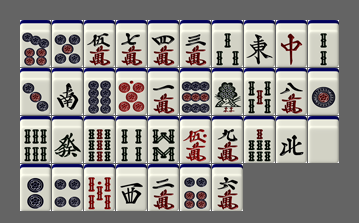0m: (180, 116, 211, 163)
0p: (116, 68, 147, 115)
0s: (84, 164, 115, 211)
1m: (148, 68, 179, 115)
1p: (308, 68, 339, 115)
1s: (212, 68, 243, 115)
1z: (244, 20, 275, 67)
2m: (148, 164, 179, 211)
2p: (20, 164, 51, 211)
2s: (308, 20, 339, 67)
2z: (52, 68, 83, 115)
3m: (180, 20, 211, 67)
3p: (20, 68, 51, 115)
3s: (212, 20, 243, 67)
3z: (116, 164, 147, 211)
4m: (148, 20, 179, 67)
4p: (52, 164, 83, 211)
4s: (116, 116, 147, 163)
4z: (276, 116, 307, 163)
5m: (84, 20, 115, 67)
5p: (52, 20, 83, 67)
5s: (244, 68, 275, 115)
5z: (308, 116, 339, 163)
6m: (212, 164, 243, 211)
6p: (180, 164, 211, 211)
6s: (20, 116, 51, 163)
6z: (52, 116, 83, 163)
7m: (116, 20, 147, 67)
7p: (20, 20, 51, 67)
7s: (244, 116, 275, 163)
7z: (276, 20, 307, 67)
8m: (276, 68, 307, 115)
8p: (84, 68, 115, 115)
8s: (148, 116, 179, 163)
9m: (212, 116, 243, 163)
9p: (180, 68, 211, 115)
9s: (84, 116, 115, 163)
